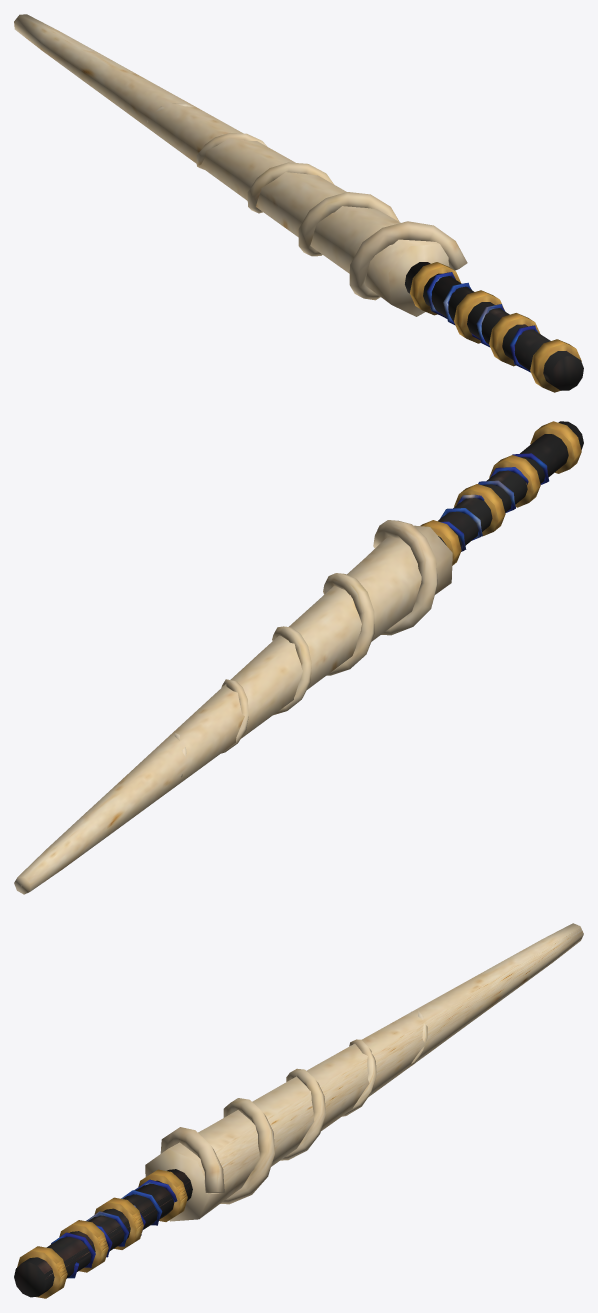
Rendered from item_wand3.glb.
3 views of the same model, one above another, from view 1: azimuth 30°, elevation 25°; view 2: azimuth 150°, elevation 25°; view 3: azimuth 330°, elevation 25° (orthographic).
Visible parts, largest first — view 1: item_wand3; view 2: item_wand3; view 3: item_wand3.
Boxes of the visible parts, x1=… form: item_wand3: x1=14, y1=14, x2=583, y2=392; item_wand3: x1=14, y1=421, x2=583, y2=894; item_wand3: x1=14, y1=923, x2=583, y2=1298.
Bounding box in the file's own units: 0.0934 × 0.0925 × 1.
Materials: 1 (1 with a texture image).
